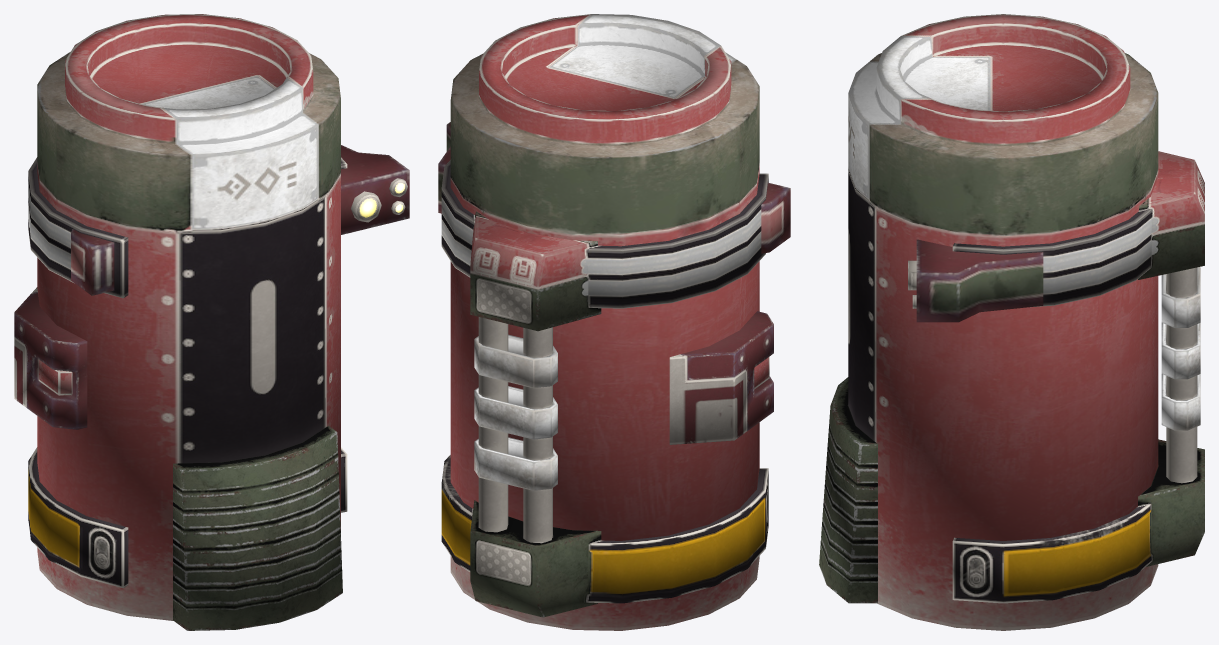
Rendered from baril_04 (1).glb.
The picture shows the model from 3 angles, left to right: view 1: azimuth 30°, elevation 25°; view 2: azimuth 150°, elevation 25°; view 3: azimuth 270°, elevation 25°; orthographic projection.
Parts seen in each view (by area): view 1: baril_low, deco_low, encadrement_low, led_low; view 2: baril_low, encadrement_low, deco_low; view 3: baril_low, encadrement_low, deco_low.
Boxes of the visible parts, bbox=[...] form: baril_low: bbox=[37, 14, 340, 620]; deco_low: bbox=[14, 145, 409, 630]; encadrement_low: bbox=[28, 157, 347, 588]; led_low: bbox=[351, 178, 407, 222]; baril_low: bbox=[450, 14, 759, 630]; encadrement_low: bbox=[441, 160, 768, 617]; deco_low: bbox=[438, 122, 790, 444]; baril_low: bbox=[848, 14, 1158, 630]; encadrement_low: bbox=[952, 151, 1204, 603]; deco_low: bbox=[819, 239, 1043, 603].
Bounding box in the file's own units: 1.41 × 2 × 1.41.
Materials: 1 (1 with a texture image).
